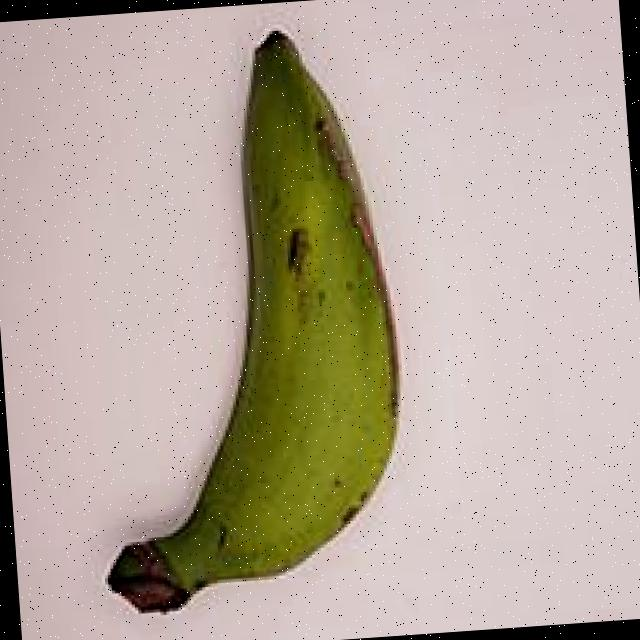Raw: (30, 3, 446, 640)
